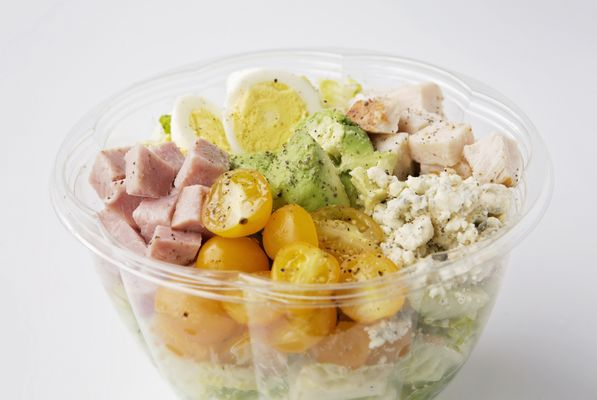curry: (227, 110, 359, 213)
sushi: (48, 46, 554, 385)
